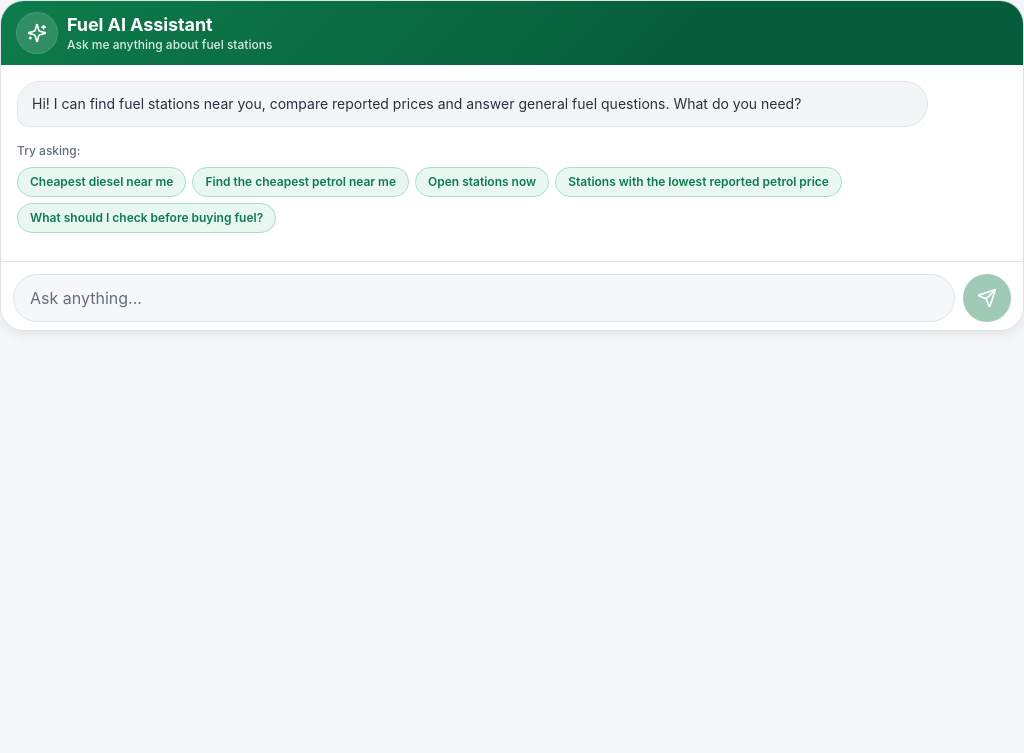
it: result honesty › renders the reported price when the backend supplied one
Type "cheapest petrol" into the field named "Ask Fuel AI".
click(484, 298); type("cheapest petrol")  # box left=13, top=274, right=955, bottom=322
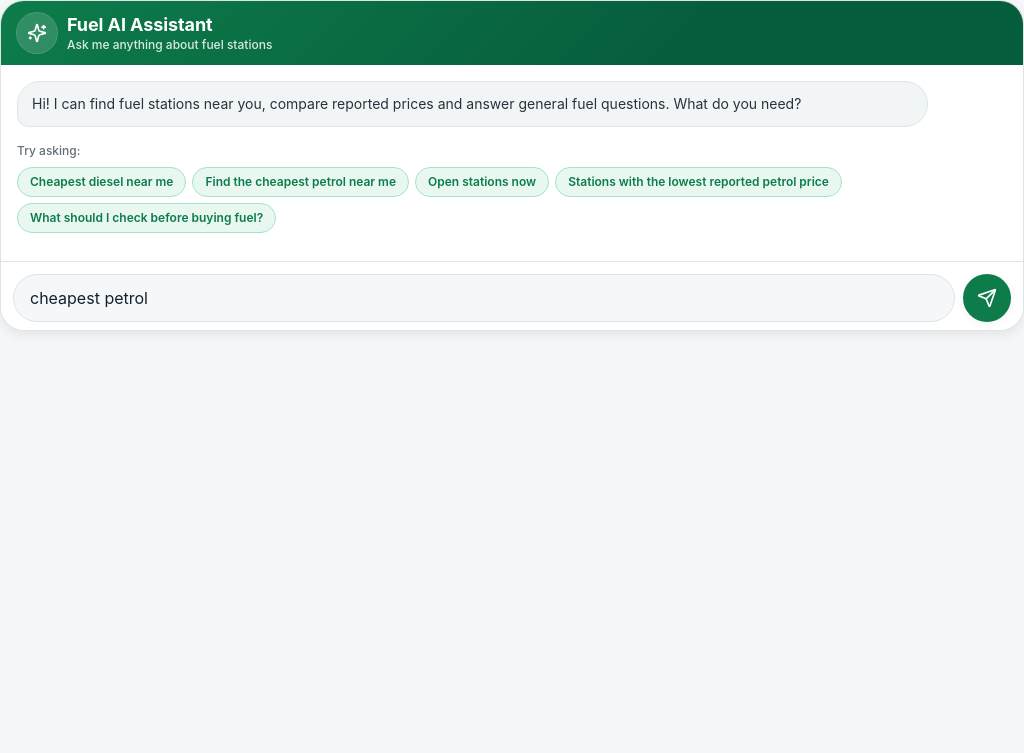
Click the button named "ask fuel ai".
click(987, 298)  # box left=963, top=274, right=1011, bottom=322
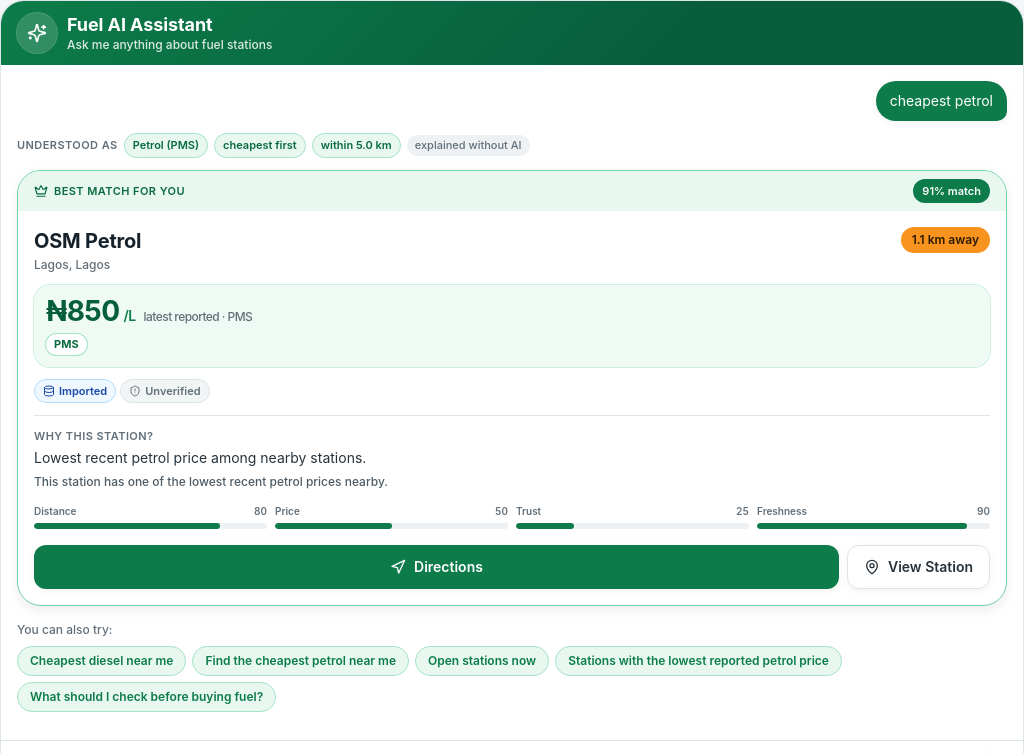
Expected: the element with test id "ai-top-recommendation" is shown, left=17, top=170, right=1007, bottom=606
Expected: the element with test id "ai-price" shows "₦850/L", left=46, top=294, right=252, bottom=328
